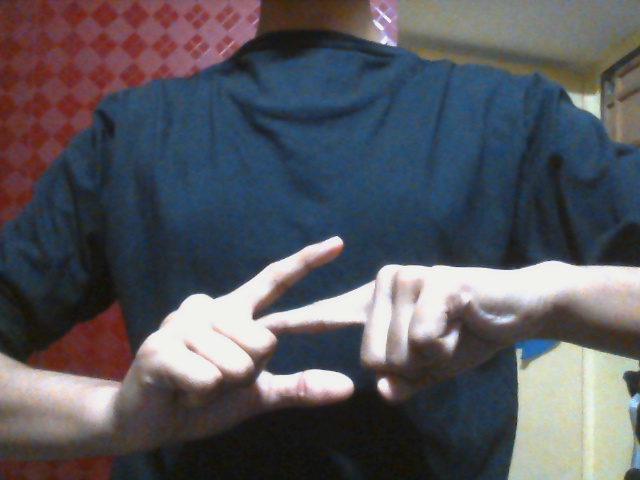E: (135, 235, 510, 443)
